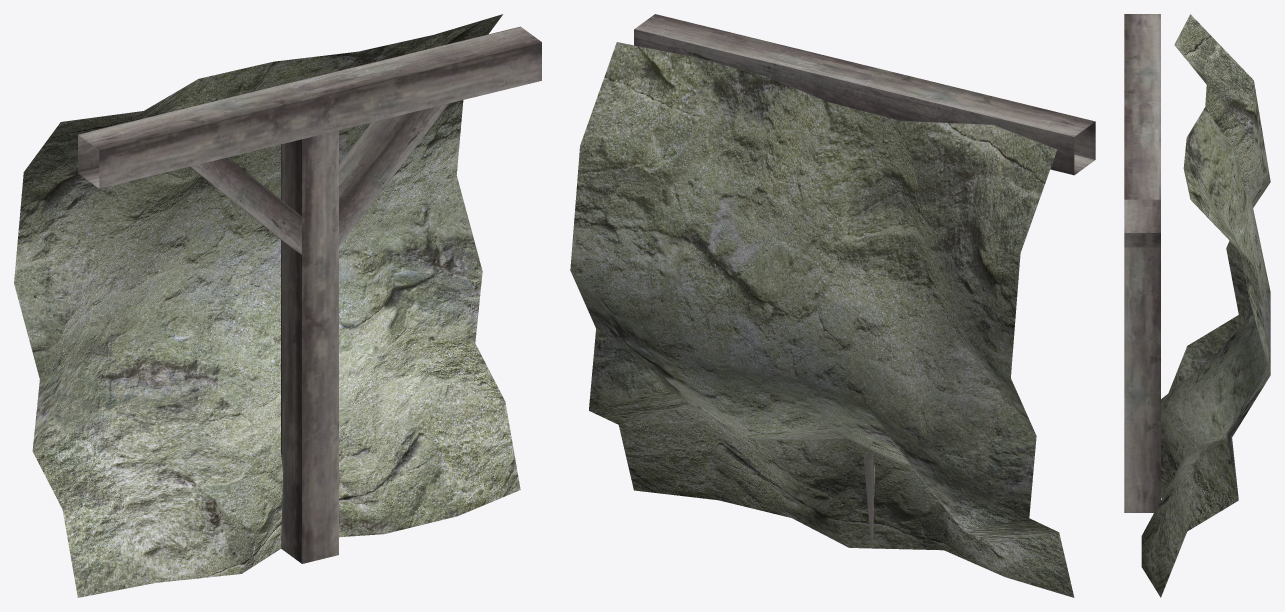
File: Wall_3.FBX
The picture shows the model from 3 angles, left to right: view 1: azimuth 30°, elevation 25°; view 2: azimuth 150°, elevation 25°; view 3: azimuth 270°, elevation 25°; orthographic projection. The views are drawn at different scales.
Parts seen in each view (by area): view 1: Wall3; view 2: Wall3; view 3: Wall3.
Part boxes in pixels (<box>): Wall3: <box>14,14,541,597</box>; Wall3: <box>570,14,1095,597</box>; Wall3: <box>1124,14,1270,597</box>.
Size of the model in its own units: 300 by 300 by 100.
